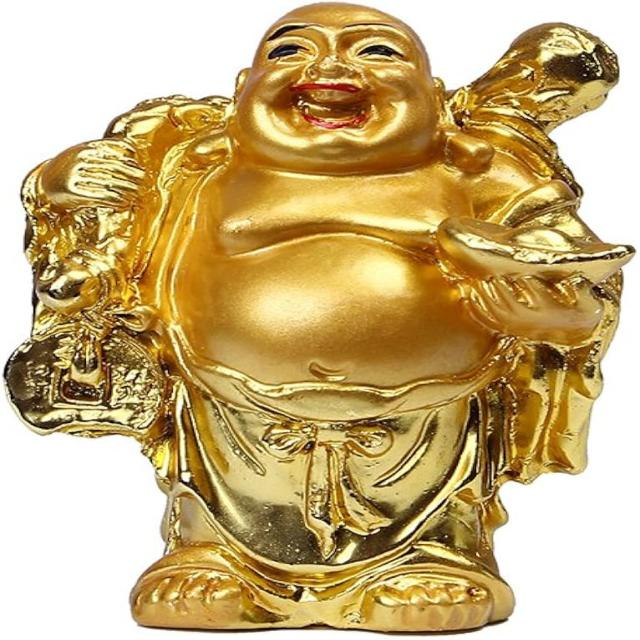Smiling Buddha: (85, 0, 574, 518)
